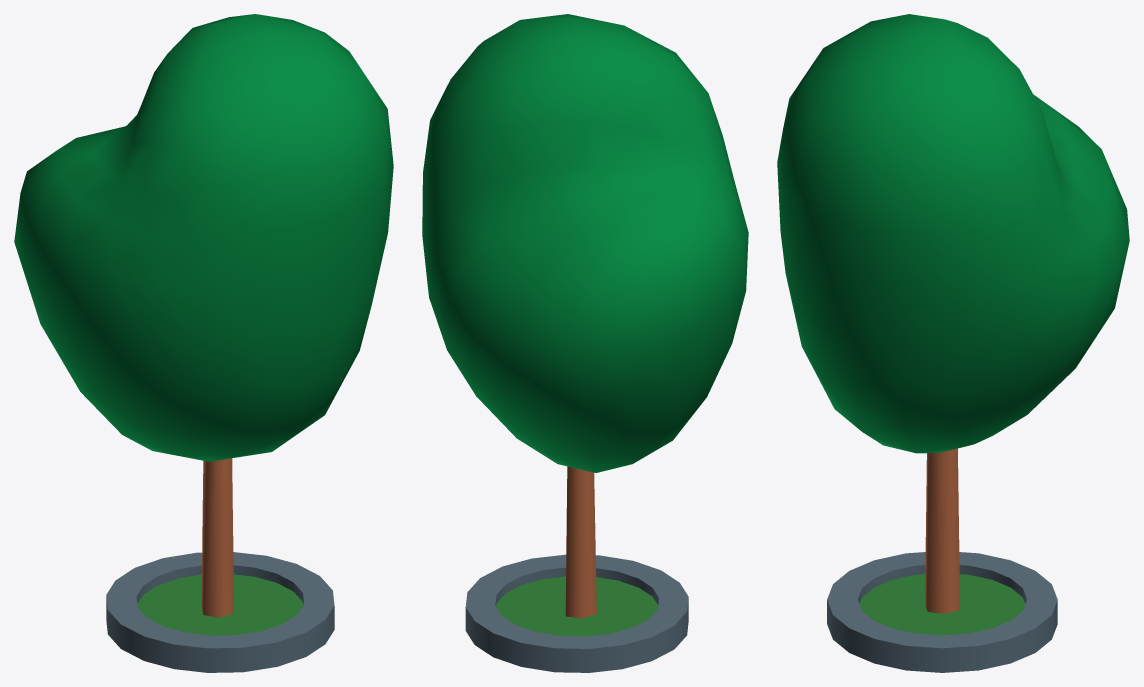
Rendered from tree_v3.fbx.
The picture shows the model from 3 angles, left to right: view 1: azimuth 30°, elevation 25°; view 2: azimuth 150°, elevation 25°; view 3: azimuth 270°, elevation 25°; orthographic projection. The views are drawn at different scales.
Visible parts, largest first — view 1: tree_v3; view 2: tree_v3; view 3: tree_v3.
Part boxes in pixels (left/top/right/bottom): tree_v3: left=14, top=14, right=393, bottom=672; tree_v3: left=422, top=14, right=748, bottom=672; tree_v3: left=777, top=14, right=1129, bottom=672.
Bounding box in the file's own units: 222 × 415 × 220.
